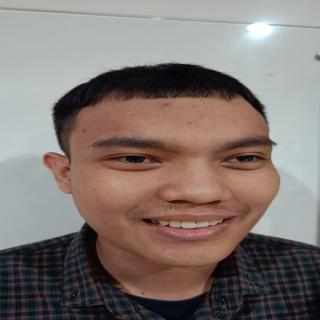Senang: (66, 95, 295, 272)
